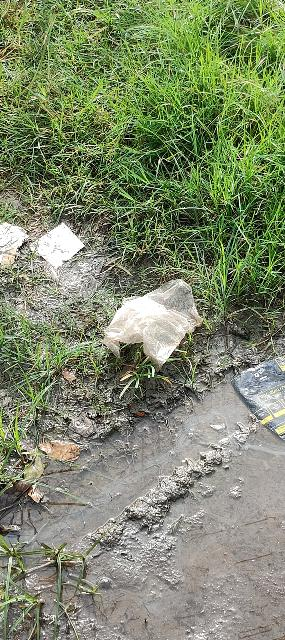polythene: (109, 276, 208, 376)
